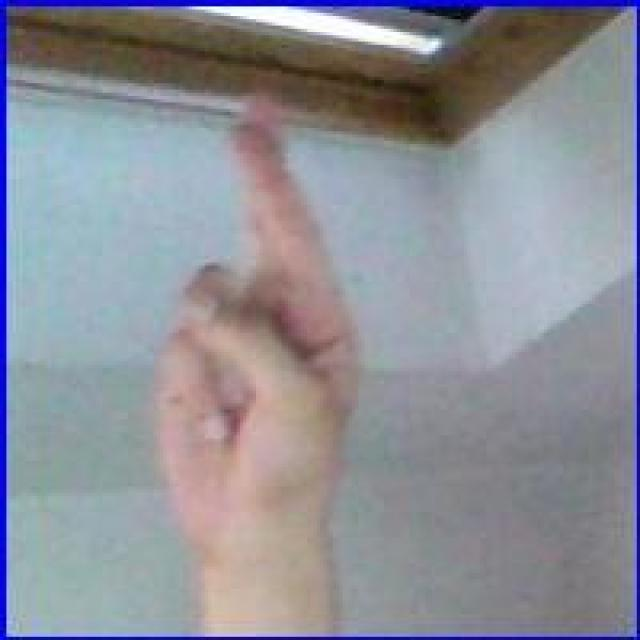R: (142, 80, 364, 557)
